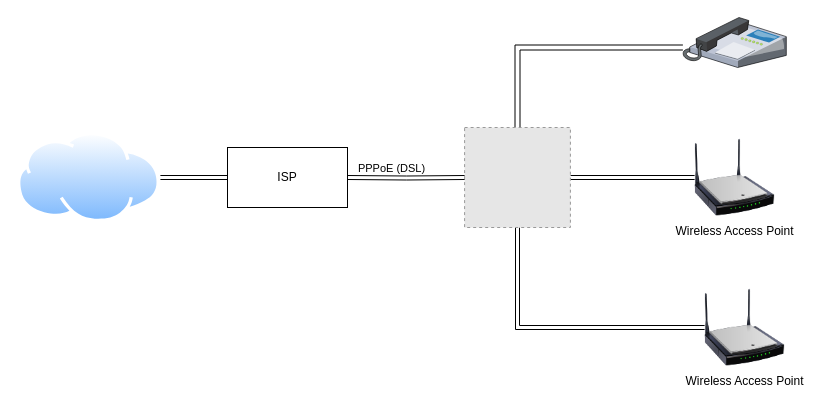
Some shapes in this 822 by 405 pixel diagram are drawn without their labels. Grey dashed boxes stand in for pictures. Here are the shapes that lost their labels. From the top down, the box of each, then its label:
(682, 17, 786, 67): Public Static IPv6 Address
(17, 132, 160, 222): Internet
